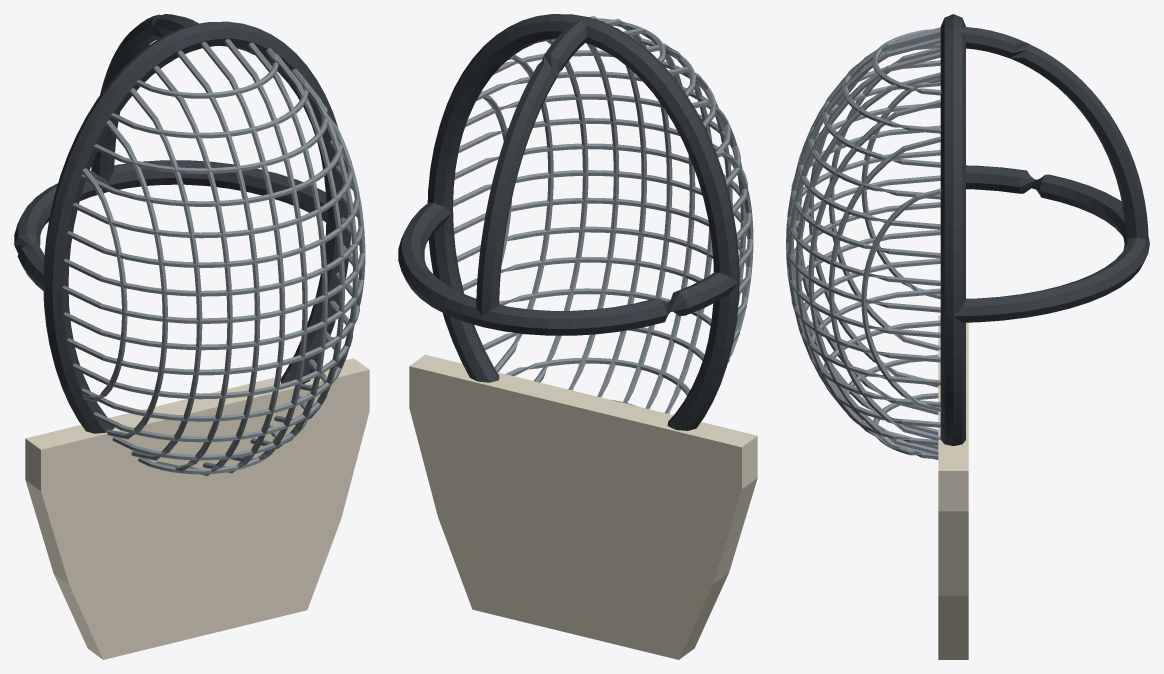
The picture shows the model from 3 angles, left to right: view 1: azimuth 30°, elevation 25°; view 2: azimuth 150°, elevation 25°; view 3: azimuth 270°, elevation 25°; orthographic projection. The views are drawn at different scales.
Parts seen in each view (by area): view 1: WholeThroatBibGroundSole, WholeThickOvalMaskRim, WholeRearHorizontalRetentionArch, WholeCrownToRearRetentionArch, WholeBowedFaceVertical_06, WholeBowedFaceVertical_05, WholeBowedFaceVertical_04, WholeBowedFaceVertical_07, WholeBowedFaceVertical_03, WholeBowedFaceVertical_08, WholeBowedFaceVertical_02, WholeBowedFaceVertical_09 (+18 smaller); view 2: WholeThroatBibGroundSole, WholeThickOvalMaskRim, WholeRearHorizontalRetentionArch, WholeCrownToRearRetentionArch, WholeBowedFaceVertical_08, WholeBowedFaceVertical_06, WholeBowedFaceVertical_07, WholeBowedFaceVertical_09, WholeBowedFaceHorizontal_08, WholeBowedFaceVertical_10, WholeBowedFaceHorizontal_07, WholeBowedFaceVertical_05 (+14 smaller); view 3: WholeThickOvalMaskRim, WholeRearHorizontalRetentionArch, WholeThroatBibGroundSole, WholeCrownToRearRetentionArch, WholeBowedFaceVertical_09, WholeBowedFaceVertical_08, WholeBowedFaceVertical_10, WholeBowedFaceVertical_07, WholeBowedFaceVertical_11, WholeBowedFaceVertical_06, WholeBowedFaceHorizontal_08, WholeBowedFaceVertical_02 (+18 smaller).
Boxes of the visible parts, bbox=[...] form: WholeThroatBibGroundSole: bbox=[25, 358, 369, 659]; WholeThickOvalMaskRim: bbox=[43, 21, 350, 433]; WholeRearHorizontalRetentionArch: bbox=[14, 160, 328, 290]; WholeCrownToRearRetentionArch: bbox=[91, 14, 198, 181]; WholeBowedFaceVertical_06: bbox=[201, 41, 285, 473]; WholeBowedFaceVertical_05: bbox=[177, 50, 260, 475]; WholeBowedFaceVertical_04: bbox=[153, 65, 232, 472]; WholeBowedFaceVertical_07: bbox=[224, 39, 307, 461]; WholeBowedFaceVertical_03: bbox=[130, 88, 202, 460]; WholeBowedFaceVertical_08: bbox=[248, 42, 327, 448]; WholeBowedFaceVertical_02: bbox=[106, 120, 167, 439]; WholeBowedFaceVertical_09: bbox=[274, 53, 344, 425]; WholeThroatBibGroundSole: bbox=[409, 354, 757, 659]; WholeThickOvalMaskRim: bbox=[427, 14, 739, 430]; WholeRearHorizontalRetentionArch: bbox=[398, 203, 737, 335]; WholeCrownToRearRetentionArch: bbox=[476, 19, 587, 316]; WholeBowedFaceVertical_08: bbox=[568, 43, 619, 390]; WholeBowedFaceVertical_06: bbox=[604, 18, 672, 402]; WholeBowedFaceVertical_07: bbox=[589, 16, 646, 397]; WholeBowedFaceVertical_09: bbox=[534, 40, 588, 382]; WholeBowedFaceHorizontal_08: bbox=[453, 170, 753, 268]; WholeBowedFaceVertical_10: bbox=[494, 54, 553, 372]; WholeBowedFaceHorizontal_07: bbox=[453, 197, 751, 294]; WholeBowedFaceVertical_05: bbox=[623, 28, 695, 409]; WholeThickOvalMaskRim: bbox=[940, 14, 965, 445]; WholeRearHorizontalRetentionArch: bbox=[954, 165, 1149, 322]; WholeThroatBibGroundSole: bbox=[938, 315, 968, 659]; WholeCrownToRearRetentionArch: bbox=[957, 27, 1148, 240]; WholeBowedFaceVertical_09: bbox=[808, 99, 940, 454]; WholeBowedFaceVertical_08: bbox=[795, 72, 940, 459]; WholeBowedFaceVertical_10: bbox=[828, 136, 941, 440]; WholeBowedFaceVertical_07: bbox=[788, 52, 940, 442]; WholeBowedFaceVertical_11: bbox=[861, 188, 941, 411]; WholeBowedFaceVertical_06: bbox=[786, 37, 940, 449]; WholeBowedFaceHorizontal_08: bbox=[786, 175, 940, 312]; WholeBowedFaceVertical_02: bbox=[829, 48, 940, 350].
Bounding box in the file's own units: 0.29 × 0.51 × 0.2871.
